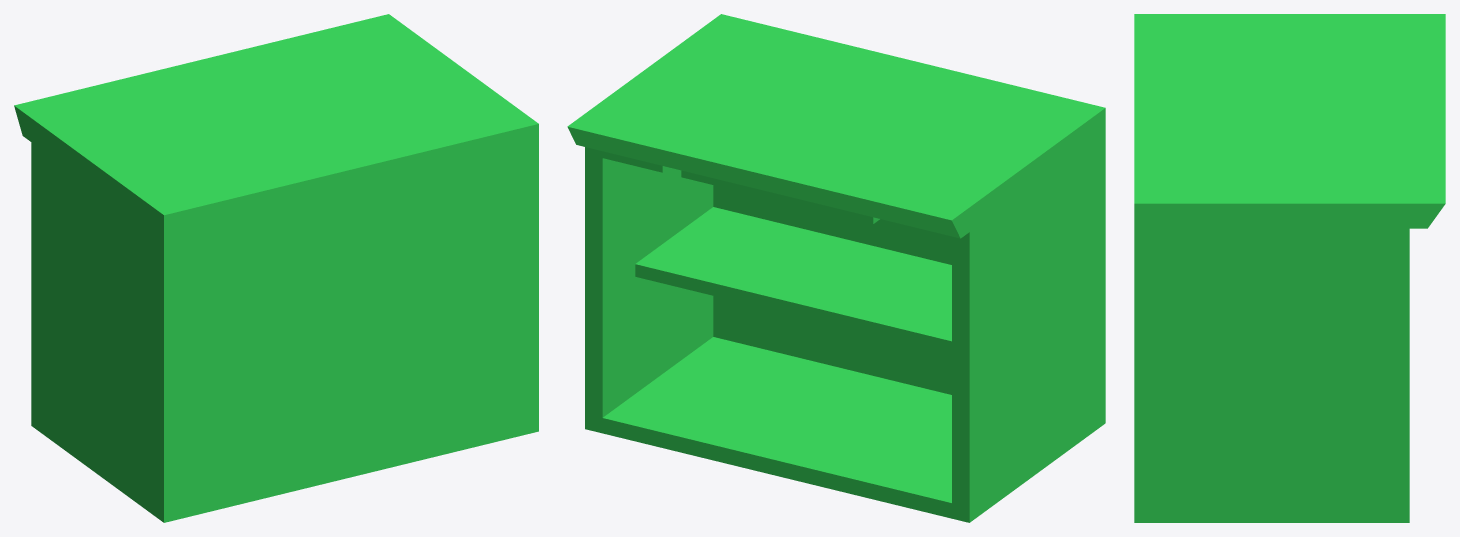
Rendered from Upper_Cupboard_1.fbx.
3 renders of one model, left to right at view 1: azimuth 30°, elevation 25°; view 2: azimuth 150°, elevation 25°; view 3: azimuth 270°, elevation 25°, orthographic. The views are drawn at different scales.
Visible parts, largest first — view 1: Cube.079; view 2: Cube.079; view 3: Cube.079.
Part boxes in pixels (bbox=[...]): Cube.079: bbox=[14, 14, 538, 522]; Cube.079: bbox=[567, 14, 1105, 522]; Cube.079: bbox=[1134, 14, 1445, 522].
Size of the model in its own units: 101 by 78.82 by 69.68.
